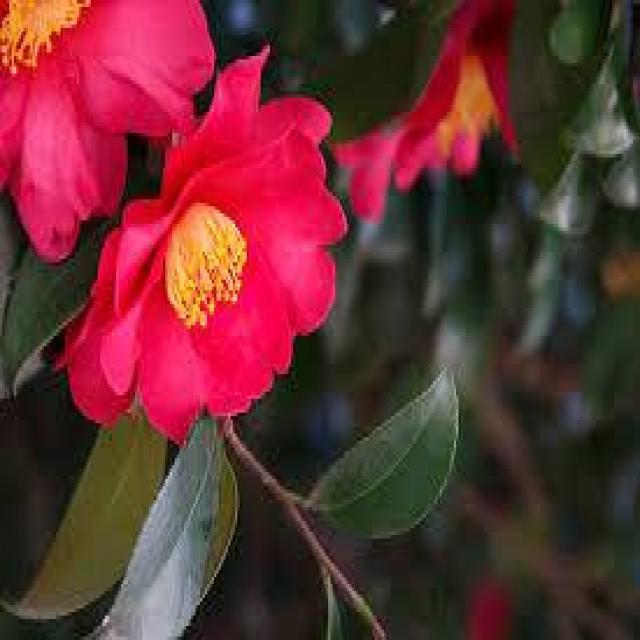organic waste: (61, 49, 352, 430), (6, 0, 224, 259)
